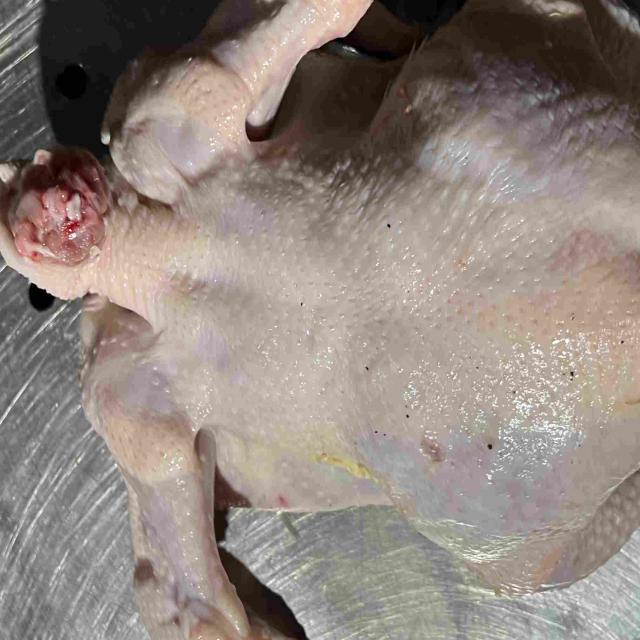back: (162, 190, 640, 491)
leg: (369, 0, 640, 197), (412, 444, 640, 594)
neck: (0, 147, 177, 317)
wing: (82, 306, 292, 640), (107, 0, 375, 200)
